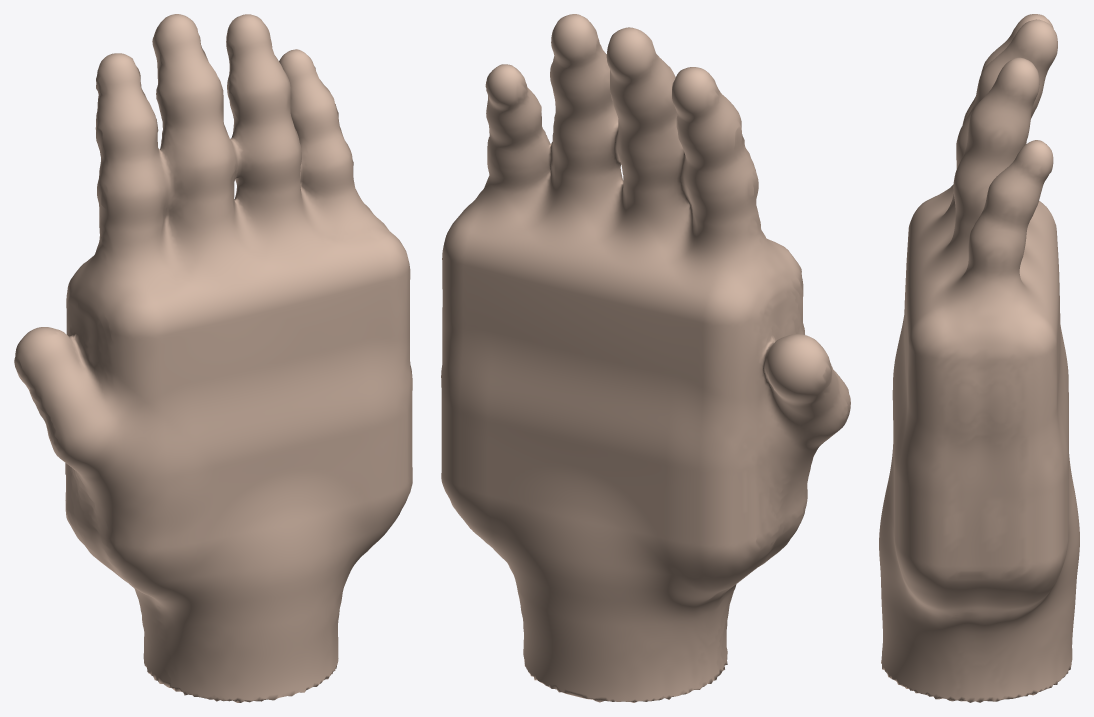
File: hand.glb
3 renders of one model, left to right at view 1: azimuth 30°, elevation 25°; view 2: azimuth 150°, elevation 25°; view 3: azimuth 270°, elevation 25°, orthographic. The views are drawn at different scales.
Visible parts, largest first — view 1: hand; view 2: hand; view 3: hand.
Part boxes in pixels (box(x1,y1,x2,y2)): hand: box(14, 14, 412, 702); hand: box(441, 14, 850, 702); hand: box(879, 14, 1079, 702).
Size of the model in its own units: 3.48 by 5.82 by 1.7.
